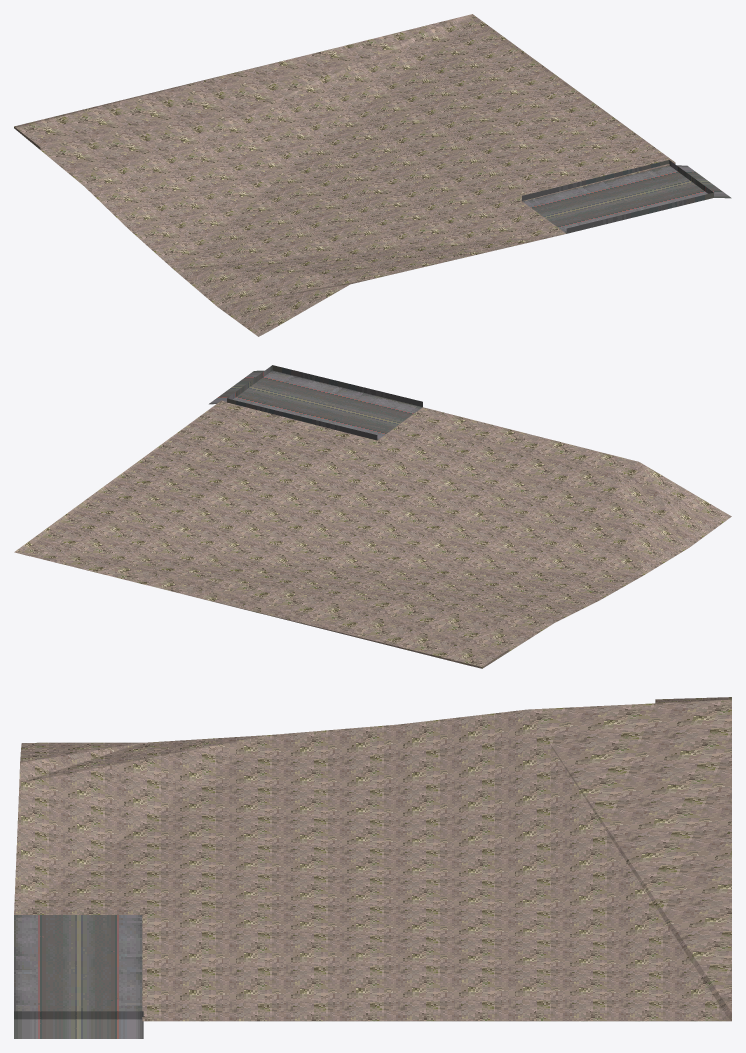
The model's file is lodhub_sfs.obj.
3 renders of one model, top to bottom at view 1: azimuth 30°, elevation 25°; view 2: azimuth 150°, elevation 25°; view 3: azimuth 270°, elevation 25°, orthographic. The views are drawn at different scales.
Parts seen in each view (by area): view 1: LODhub_SFS; view 2: LODhub_SFS; view 3: LODhub_SFS.
Boxes of the visible parts, x1,y1,x2,y2 form: LODhub_SFS: [14, 14, 731, 336]; LODhub_SFS: [14, 365, 731, 668]; LODhub_SFS: [14, 697, 731, 1038].
Size of the model in its own units: 123 by 8.98 by 112.
Materials: 2 (2 with a texture image).
